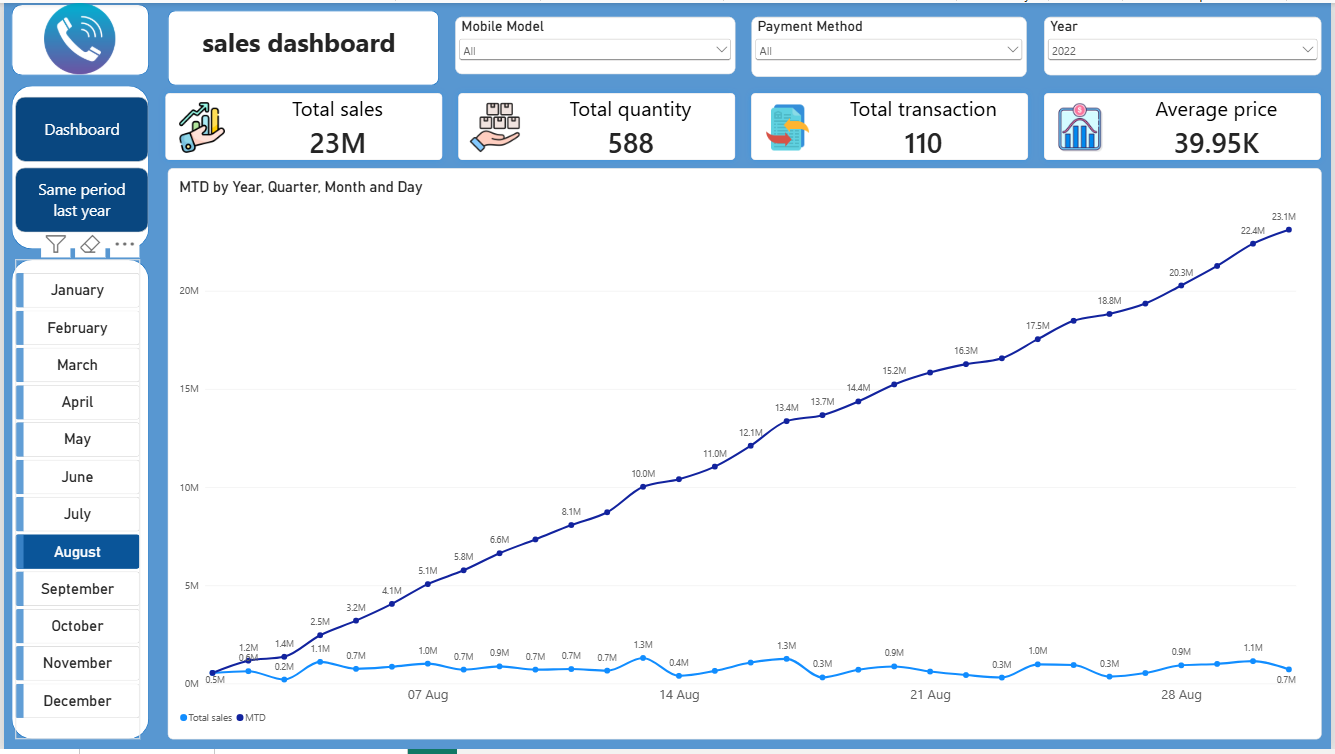

What the dashboard file says about the page in this screenshot:
{"tool":"powerbi","page":{"name":"MTD Report","canvas":[1920,1080],"ordinal":1},"visuals":[{"type":"shape","box":[10.9,1.8,199.1,103.2],"z":0},{"type":"shape","box":[10.9,119.4,199.1,237.1],"z":1000},{"type":"shape","box":[10.9,371,199.1,694.9],"z":2000},{"type":"image","box":[38,0,143,103.2],"z":3000},{"type":"advancedSlicerVisual","fields":{"Values":["custome calender.date.Variation.Date Hierarchy.Month"]},"box":[16.3,371,181,694.9],"z":4000},{"type":"cardVisual","fields":{"Data":["sales data.Total sales","sales data.total quantity","sales data.total transaction","sales data.average price"]},"box":[222.6,119.4,1697.5,119.4],"z":5000},{"type":"slicer","fields":{"Values":["custome calender.date.Variation.Date Hierarchy.Year"]},"box":[1505.6,19.9,401.7,85.1],"z":6000},{"type":"slicer","fields":{"Values":["sales data.Payment Method"]},"box":[1082.2,19.9,398.1,86.9],"z":7000},{"type":"slicer","fields":{"Values":["sales data.Mobile Model"]},"box":[653.3,19.9,405.4,83.2],"z":8000},{"type":"shape","box":[237.1,10.9,392.7,108.6],"z":9000},{"type":"textbox","box":[266,30.8,322.1,67],"z":10000},{"type":"lineChart","title":" MTD by Year, Quarter, Month and Day","fields":{"Category":["custome calender.date.Variation.Date Hierarchy.Year","custome calender.date.Variation.Date Hierarchy.Quarter","custome calender.date.Variation.Date Hierarchy.Month","custome calender.date.Variation.Date Hierarchy.Day"],"Y":["sales data.Total sales","sales data.MTD"]},"box":[237.1,238.9,1670.3,827],"z":11000},{"type":"pageNavigator","box":[16.3,135.7,193.6,197.3],"z":11001}]}

Visuals, with their boxes on the page's 1920x1080 design canvas (x1, y1, x2, y2). These are canvas units, not pixel positions in the 1335x754 screenshot, which may show the page scaled, cropped or inside an application window:
shape: bbox(11, 2, 210, 105)
shape: bbox(11, 119, 210, 356)
shape: bbox(11, 371, 210, 1066)
image: bbox(38, 0, 181, 103)
advancedSlicerVisual - custome calender.date.Variation.Date Hierarchy.Month: bbox(16, 371, 197, 1066)
cardVisual - sales data.Total sales x sales data.total quantity: bbox(223, 119, 1920, 239)
slicer - custome calender.date.Variation.Date Hierarchy.Year: bbox(1506, 20, 1907, 105)
slicer - sales data.Payment Method: bbox(1082, 20, 1480, 107)
slicer - sales data.Mobile Model: bbox(653, 20, 1059, 103)
shape: bbox(237, 11, 630, 120)
textbox: bbox(266, 31, 588, 98)
" MTD by Year, Quarter, Month and Day" lineChart: bbox(237, 239, 1907, 1066)
pageNavigator: bbox(16, 136, 210, 333)
